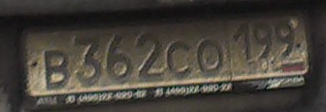character: (71, 32, 105, 87), (134, 28, 167, 82), (103, 29, 136, 82), (192, 31, 228, 75), (42, 46, 74, 93), (272, 12, 300, 58), (165, 35, 194, 78), (251, 16, 275, 61), (229, 19, 254, 61)
